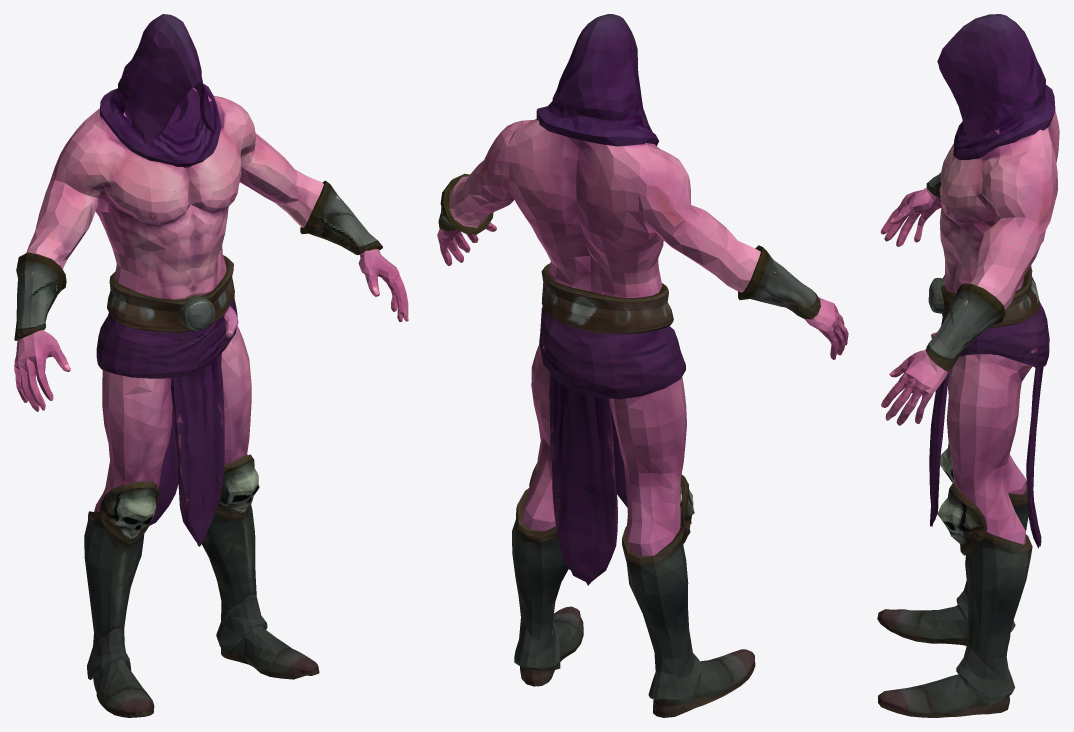
File: ewm_t2nephilim_outfit.glb
3 views of the same model, side by side, from view 1: azimuth 30°, elevation 25°; view 2: azimuth 150°, elevation 25°; view 3: azimuth 270°, elevation 25° (orthographic). The views are drawn at different scales.
Parts seen in each view (by area): view 1: ewm_t2nephilim_outfit; view 2: ewm_t2nephilim_outfit; view 3: ewm_t2nephilim_outfit.
Boxes of the visible parts, x1=… form: ewm_t2nephilim_outfit: x1=14, y1=14, x2=408, y2=717; ewm_t2nephilim_outfit: x1=437, y1=14, x2=848, y2=717; ewm_t2nephilim_outfit: x1=877, y1=14, x2=1059, y2=717.
Bounding box in the file's own units: 1.18 × 1.93 × 0.4835.
Materials: 1 (1 with a texture image).
